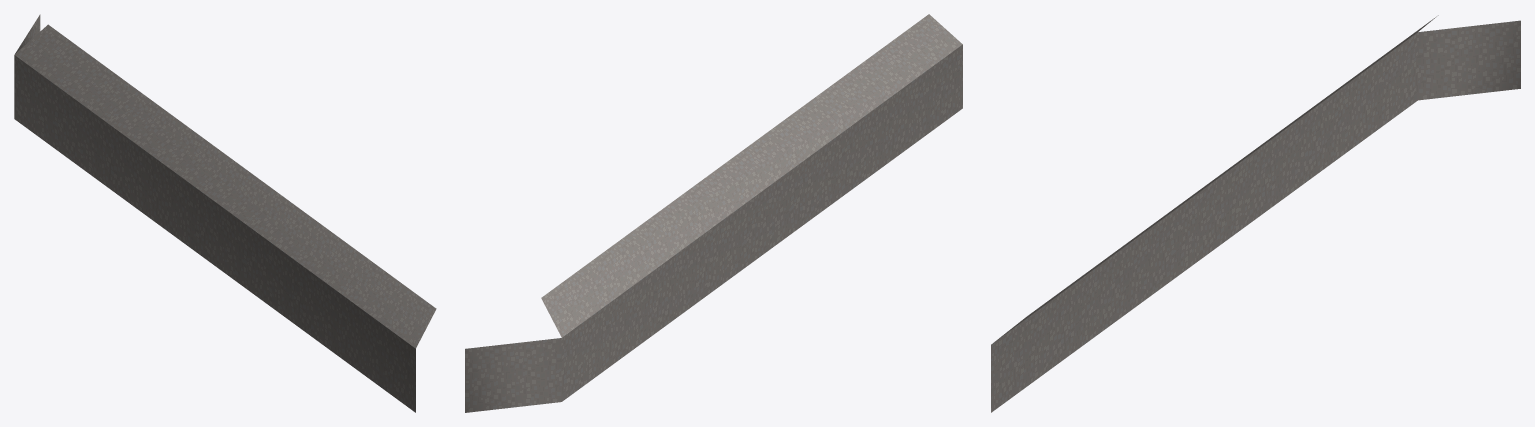
The model's file is kd_stage_135c43_4_29_bounded_piece_4.glb.
The picture shows the model from 3 angles, left to right: view 1: azimuth 30°, elevation 25°; view 2: azimuth 150°, elevation 25°; view 3: azimuth 330°, elevation 25°; orthographic projection. The views are drawn at different scales.
Parts seen in each view (by area): view 1: kd_stage_135c43_4_29_bounded_piece_4; view 2: kd_stage_135c43_4_29_bounded_piece_4; view 3: kd_stage_135c43_4_29_bounded_piece_4.
Part boxes in pixels (bbox=[...]): kd_stage_135c43_4_29_bounded_piece_4: bbox=[14, 14, 436, 412]; kd_stage_135c43_4_29_bounded_piece_4: bbox=[465, 14, 962, 412]; kd_stage_135c43_4_29_bounded_piece_4: bbox=[991, 15, 1520, 412].
Bounding box in the file's own units: 0.09 × 0.13 × 1.11.
1 material, 1 textured.
